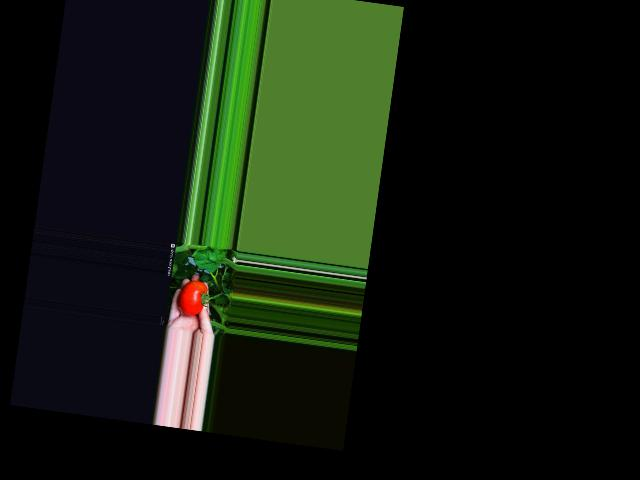tomato: (176, 279, 208, 318)
